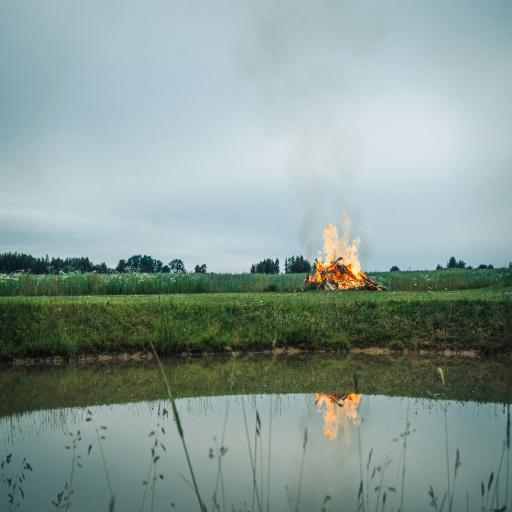campfire: (300, 208, 387, 293), (315, 392, 363, 443)
